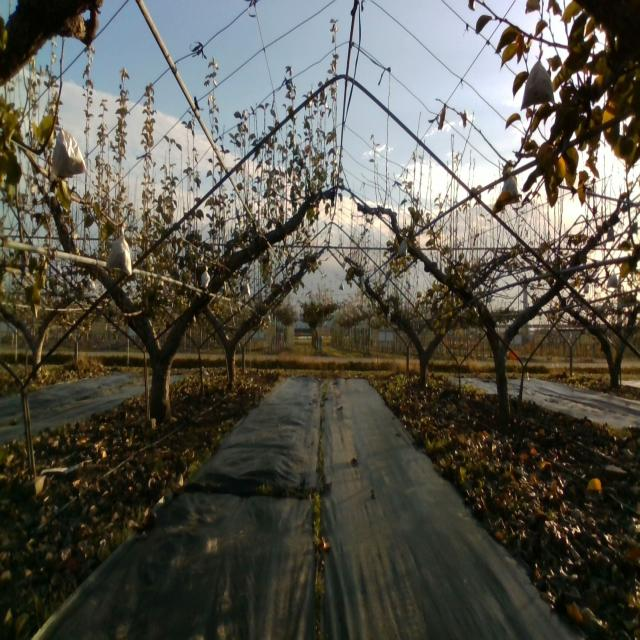pearbags: (520, 51, 556, 111), (51, 123, 87, 183), (106, 225, 133, 277), (501, 178, 519, 200), (397, 238, 408, 257)
